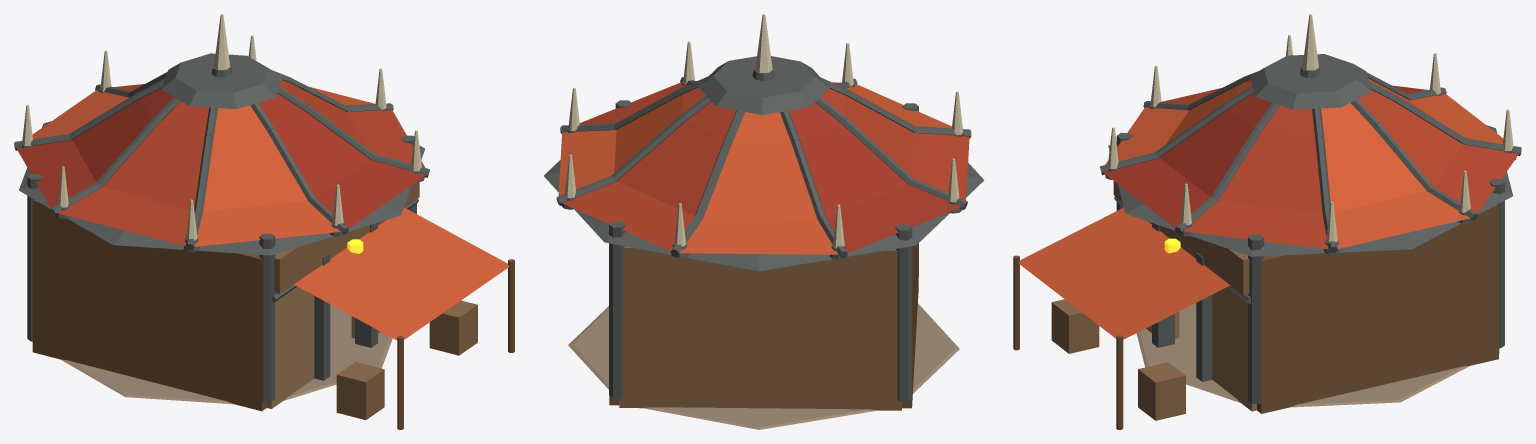
The picture shows the model from 3 angles, left to right: view 1: azimuth 30°, elevation 25°; view 2: azimuth 150°, elevation 25°; view 3: azimuth 270°, elevation 25°; orthographic projection. The views are drawn at different scales.
Parts seen in each view (by area): view 1: Solid_LowerWard_0_wood, Detail_LowerWard_0_red2, Detail_LowerWard_0_iron, Detail_LowerWard_0_red3, Detail_LowerWard_0_red, Solid_LowerWard_0_wood2, Solid_LowerWard_0_stone, Solid_LowerWard_0_wood3, Detail_LowerWard_0_ivory, Solid_LowerWard_0_iron, Detail_LowerWard_0_wood; view 2: Solid_LowerWard_0_wood2, Detail_LowerWard_0_iron, Detail_LowerWard_0_red2, Detail_LowerWard_0_red, Detail_LowerWard_0_red3, Solid_LowerWard_0_stone, Detail_LowerWard_0_ivory, Solid_LowerWard_0_wood; view 3: Solid_LowerWard_0_wood, Detail_LowerWard_0_red2, Detail_LowerWard_0_iron, Detail_LowerWard_0_red, Detail_LowerWard_0_red3, Solid_LowerWard_0_wood2, Solid_LowerWard_0_stone, Solid_LowerWard_0_wood3, Detail_LowerWard_0_ivory, Solid_LowerWard_0_iron, Detail_LowerWard_0_wood.
Part boxes in pixels (x1,y1,x2,y2): Solid_LowerWard_0_wood: (32, 200, 266, 411); Detail_LowerWard_0_red2: (32, 78, 509, 340); Detail_LowerWard_0_iron: (14, 53, 429, 401); Detail_LowerWard_0_red3: (16, 88, 425, 228); Detail_LowerWard_0_red: (57, 80, 425, 246); Solid_LowerWard_0_wood2: (274, 182, 477, 419); Solid_LowerWard_0_stone: (60, 304, 392, 404); Solid_LowerWard_0_wood3: (267, 209, 408, 408); Detail_LowerWard_0_ivory: (22, 14, 421, 240); Solid_LowerWard_0_iron: (314, 223, 377, 380); Detail_LowerWard_0_wood: (397, 259, 514, 429); Solid_LowerWard_0_wood2: (619, 246, 901, 410); Detail_LowerWard_0_iron: (544, 56, 984, 401); Detail_LowerWard_0_red2: (558, 84, 951, 254); Detail_LowerWard_0_red: (562, 82, 969, 251); Detail_LowerWard_0_red3: (695, 81, 961, 252); Solid_LowerWard_0_stone: (568, 303, 959, 429); Detail_LowerWard_0_ivory: (565, 14, 963, 248); Solid_LowerWard_0_wood: (609, 243, 918, 408); Solid_LowerWard_0_wood: (1257, 205, 1498, 413); Detail_LowerWard_0_red2: (1018, 78, 1503, 339); Detail_LowerWard_0_iron: (1099, 54, 1521, 403); Detail_LowerWard_0_red: (1162, 88, 1518, 249); Detail_LowerWard_0_red3: (1103, 85, 1426, 227); Solid_LowerWard_0_wood2: (1051, 181, 1499, 420); Solid_LowerWard_0_stone: (1136, 303, 1470, 407); Solid_LowerWard_0_wood3: (1146, 287, 1256, 411); Detail_LowerWard_0_ivory: (1108, 14, 1513, 242); Solid_LowerWard_0_iron: (1152, 223, 1212, 381); Detail_LowerWard_0_wood: (1013, 255, 1123, 429).
Size of the model in its own units: 11.49 by 9.15 by 13.25.
